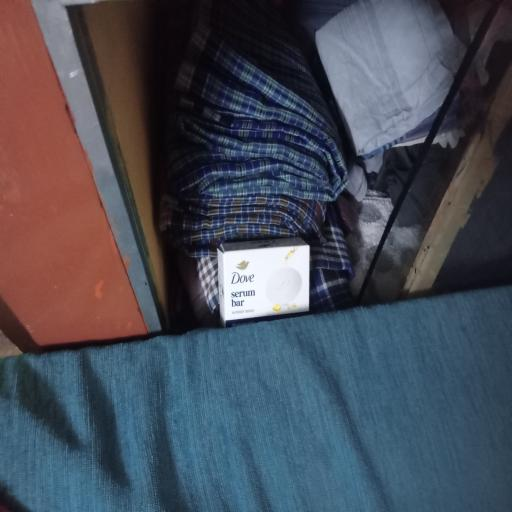Dove`1: (214, 241, 317, 324)
